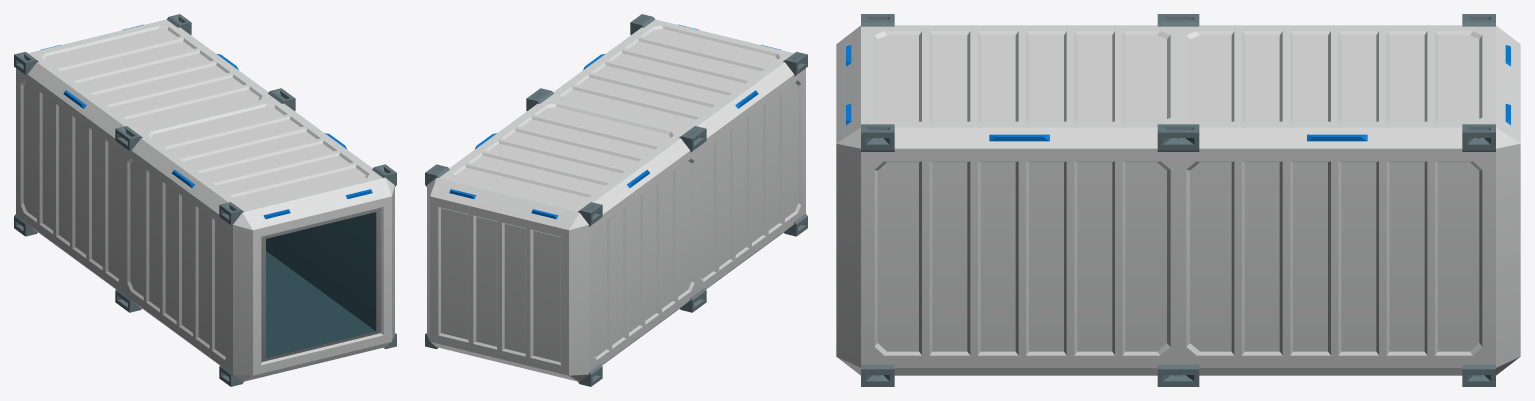
Rendered from Container_type_A_002.fbx.
The picture shows the model from 3 angles, left to right: view 1: azimuth 30°, elevation 25°; view 2: azimuth 150°, elevation 25°; view 3: azimuth 270°, elevation 25°; orthographic projection. The views are drawn at different scales.
Parts seen in each view (by area): view 1: Container_type_A_002; view 2: Container_type_A_002; view 3: Container_type_A_002.
Part boxes in pixels (x1,y1,x2,y2): Container_type_A_002: (14,14,396,386); Container_type_A_002: (425,14,807,386); Container_type_A_002: (836,14,1520,386).
Bounding box in the file's own units: 246 × 600 × 246.
